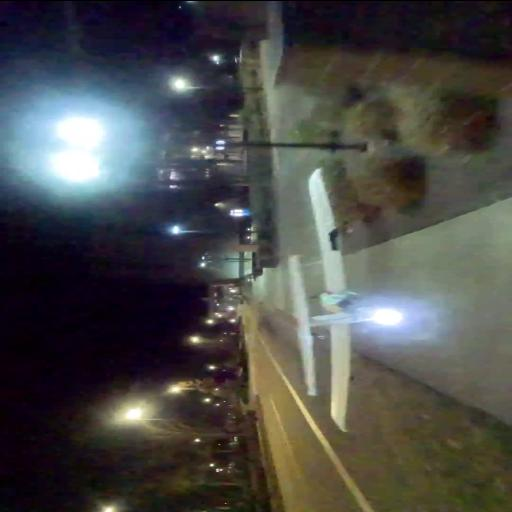uav: (282, 162, 412, 438)
